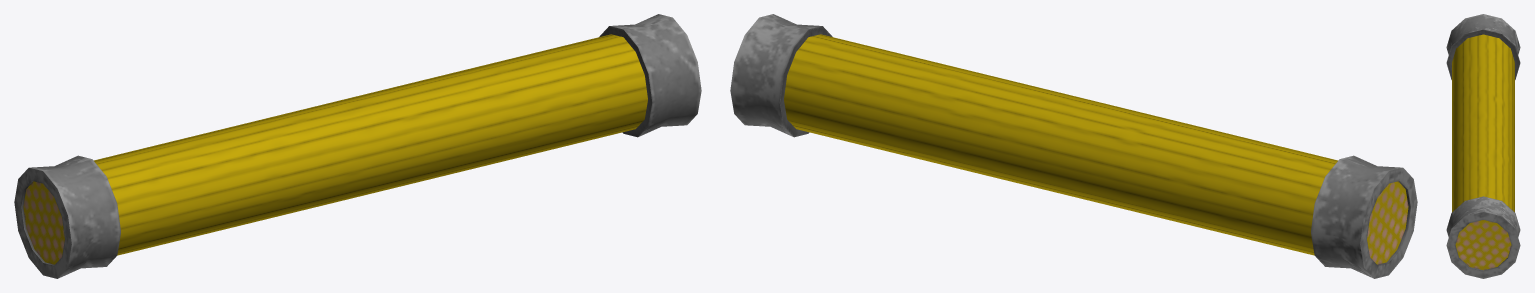
File: ElectricalWires01_02.glb
3 views of the same model, side by side, from view 1: azimuth 30°, elevation 25°; view 2: azimuth 150°, elevation 25°; view 3: azimuth 270°, elevation 25° (orthographic). The views are drawn at different scales.
Parts seen in each view (by area): view 1: Circle_019; view 2: Circle_019; view 3: Circle_019.
Part boxes in pixels (x1,y1,x2,y2): Circle_019: (14, 14, 701, 278); Circle_019: (730, 14, 1417, 278); Circle_019: (1446, 14, 1520, 278).
Bounding box in the file's own units: 0.4954 × 0.0784 × 0.0784.
1 material, 1 textured.
